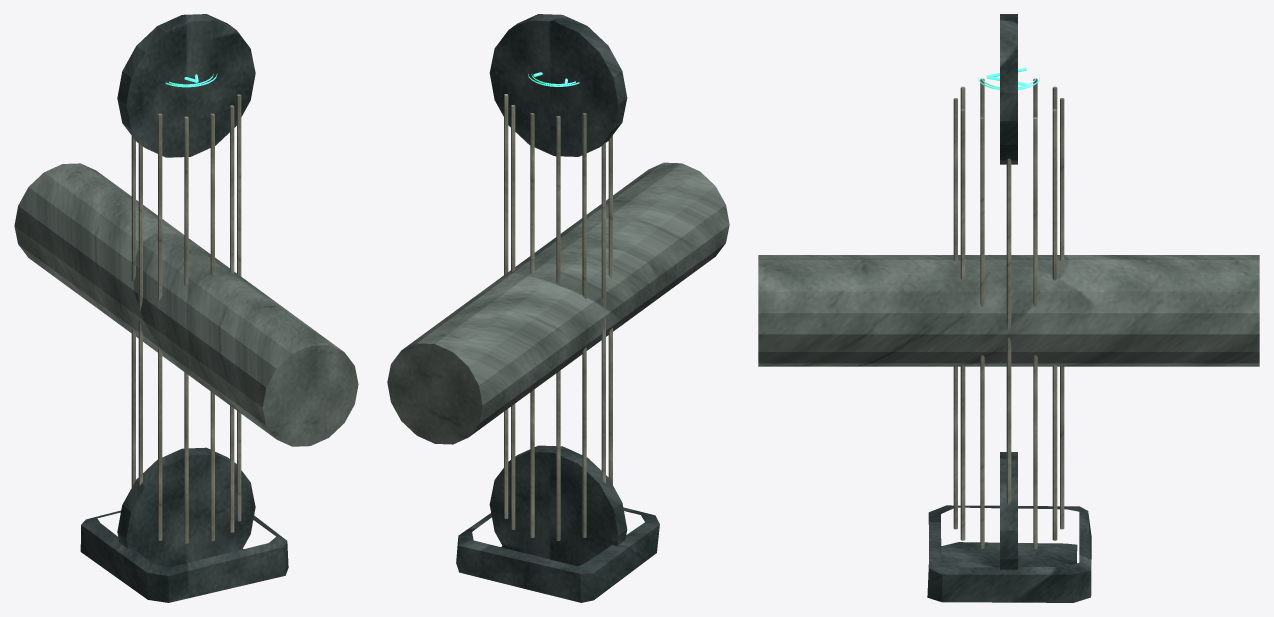
The model's file is 0297_fluted_column_22.glb.
3 views of the same model, side by side, from view 1: azimuth 30°, elevation 25°; view 2: azimuth 150°, elevation 25°; view 3: azimuth 270°, elevation 25° (orthographic).
Visible parts, largest first — view 1: stone, stone_dark, stone_light; view 2: stone, stone_dark, stone_light; view 3: stone, stone_dark, stone_light.
Boxes of the visible parts, left/top/right/bottom form: stone: left=14, top=163, right=358, bottom=446; stone_dark: left=80, top=14, right=288, bottom=602; stone_light: left=131, top=94, right=241, bottom=543; stone: left=387, top=162, right=729, bottom=444; stone_dark: left=456, top=14, right=659, bottom=602; stone_light: left=504, top=94, right=612, bottom=540; stone: left=758, top=255, right=1259, bottom=366; stone_dark: left=927, top=14, right=1091, bottom=602; stone_light: left=953, top=78, right=1064, bottom=548.
Bounding box in the file's own units: 1.28 × 4.89 × 3.87.
4 materials, 4 textured.
